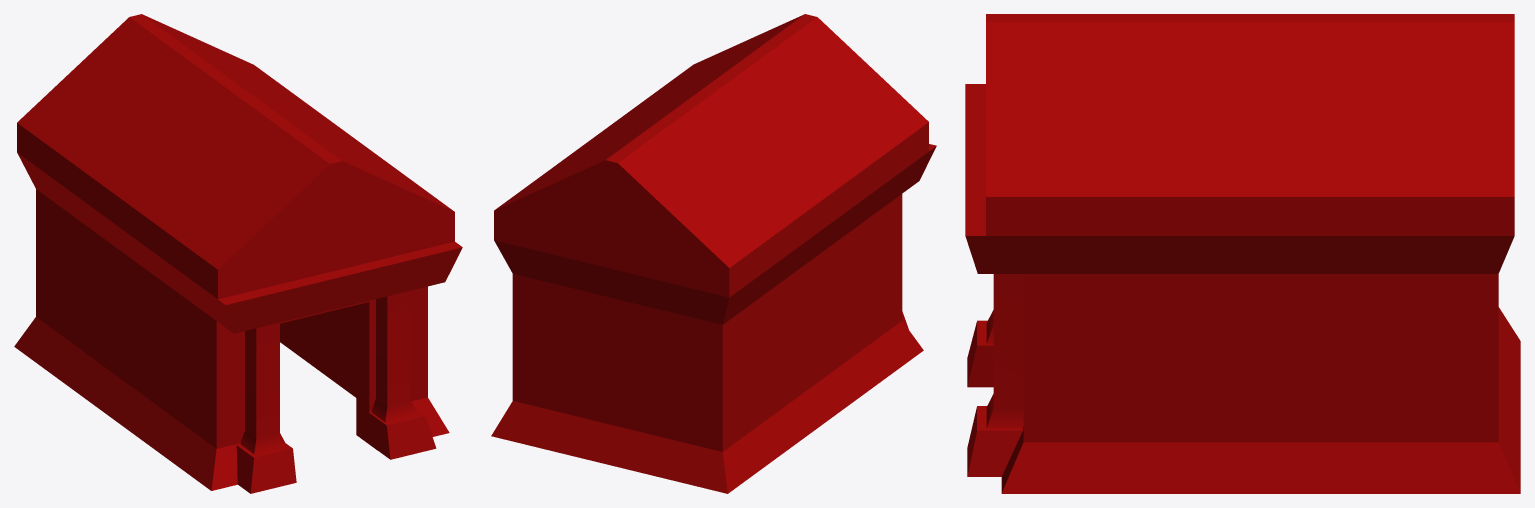
The model's file is SM_Env_Entrance_Crypt_01_Collision.glb.
The picture shows the model from 3 angles, left to right: view 1: azimuth 30°, elevation 25°; view 2: azimuth 150°, elevation 25°; view 3: azimuth 270°, elevation 25°; orthographic projection. The views are drawn at different scales.
Visible parts, largest first — view 1: SM_Env_Entrance_Crypt_01_Collision; view 2: SM_Env_Entrance_Crypt_01_Collision; view 3: SM_Env_Entrance_Crypt_01_Collision.
Part boxes in pixels (x1,y1,x2,y2): SM_Env_Entrance_Crypt_01_Collision: (14, 14, 462, 493); SM_Env_Entrance_Crypt_01_Collision: (491, 14, 936, 493); SM_Env_Entrance_Crypt_01_Collision: (965, 14, 1520, 493).
Size of the model in its own units: 3.88 by 4.73 by 5.95.
